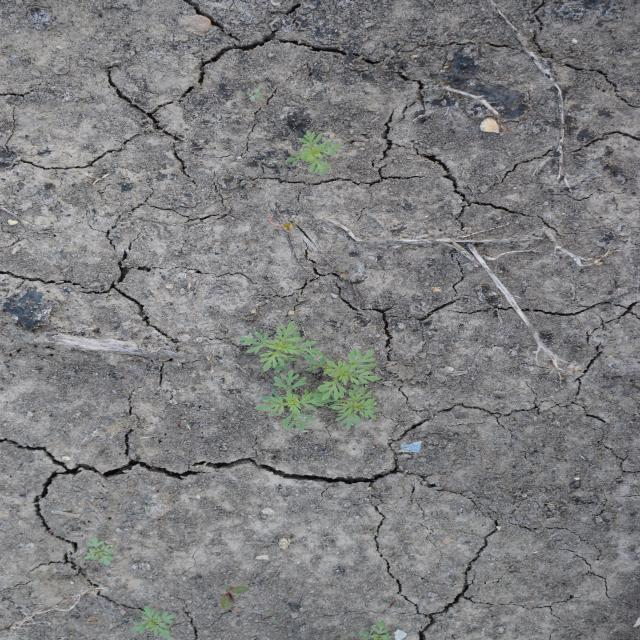Ragweed: (252, 368, 334, 431), (236, 319, 326, 373), (302, 347, 382, 402), (285, 129, 344, 177), (328, 382, 384, 430), (127, 604, 178, 639), (82, 537, 118, 567)
